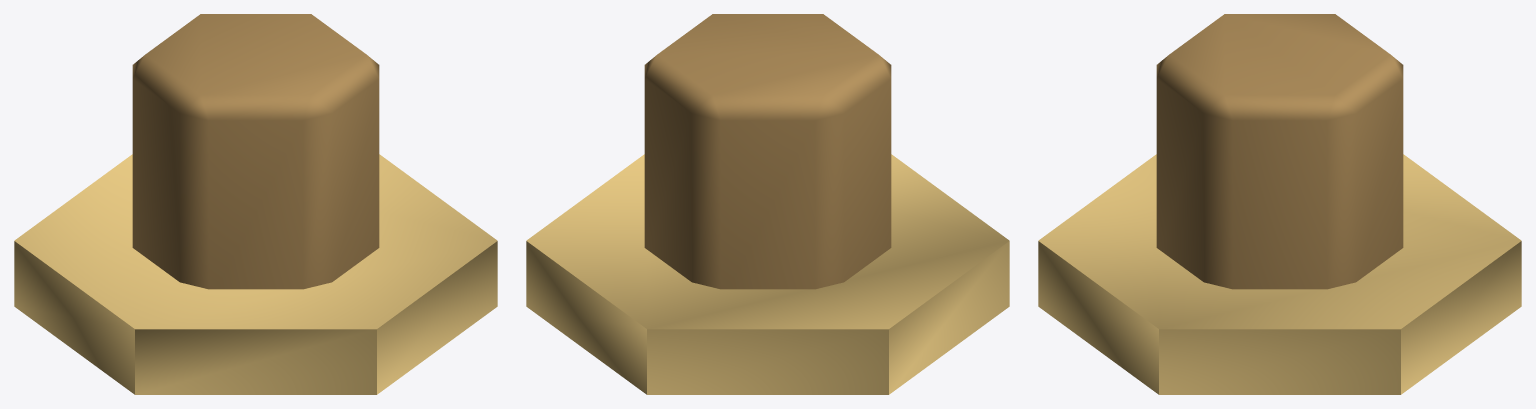
Rendered from fx_socket_stub.glb.
3 views of the same model, side by side, from view 1: azimuth 30°, elevation 25°; view 2: azimuth 150°, elevation 25°; view 3: azimuth 270°, elevation 25° (orthographic).
Visible parts, largest first — view 1: fx_socket_stub; view 2: fx_socket_stub; view 3: fx_socket_stub.
Part boxes in pixels (x1,y1,x2,y2): fx_socket_stub: [14, 14, 497, 394]; fx_socket_stub: [526, 14, 1009, 394]; fx_socket_stub: [1038, 14, 1521, 394].
Size of the model in its own units: 0.1732 by 0.115 by 0.2.
1 material, 1 textured.
